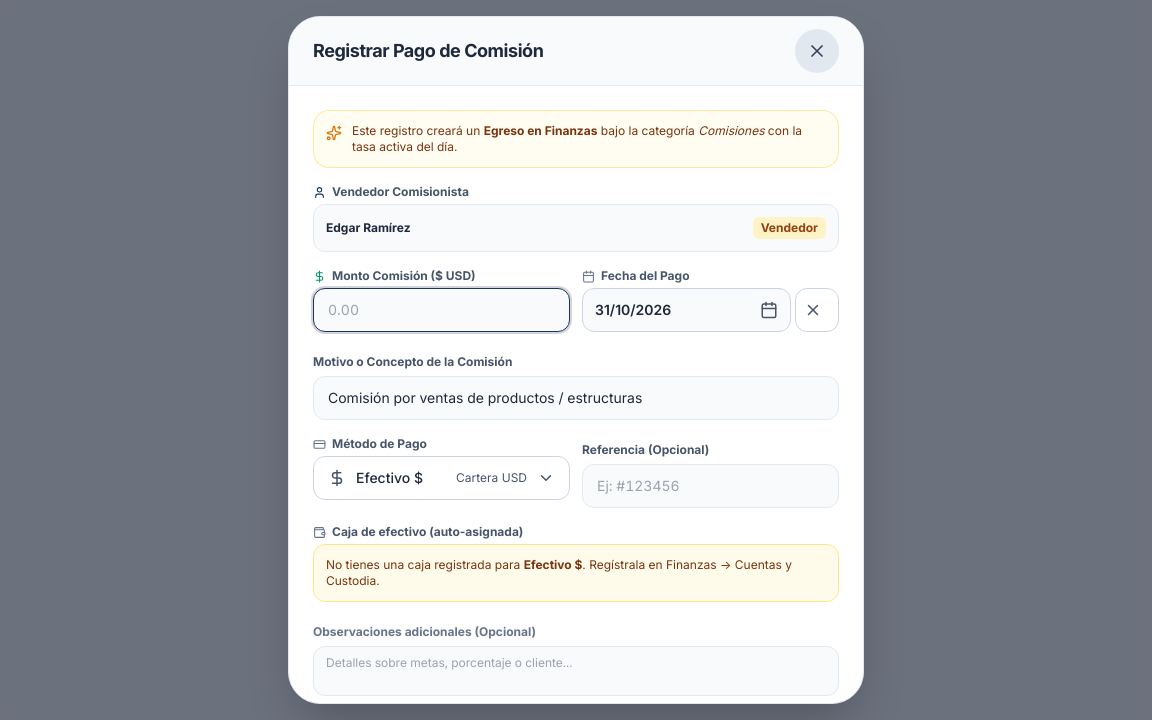
Test case: ComisionPagoModal — invariante anti-huérfanos › sin caja registrada para el método, muestra el aviso y NO envía nada
The width and height of the screenshot is (1152, 720).
Type "25" into the number field with placeholder "0.00" at (442, 310), box x1=313 y1=288 x2=570 y2=332
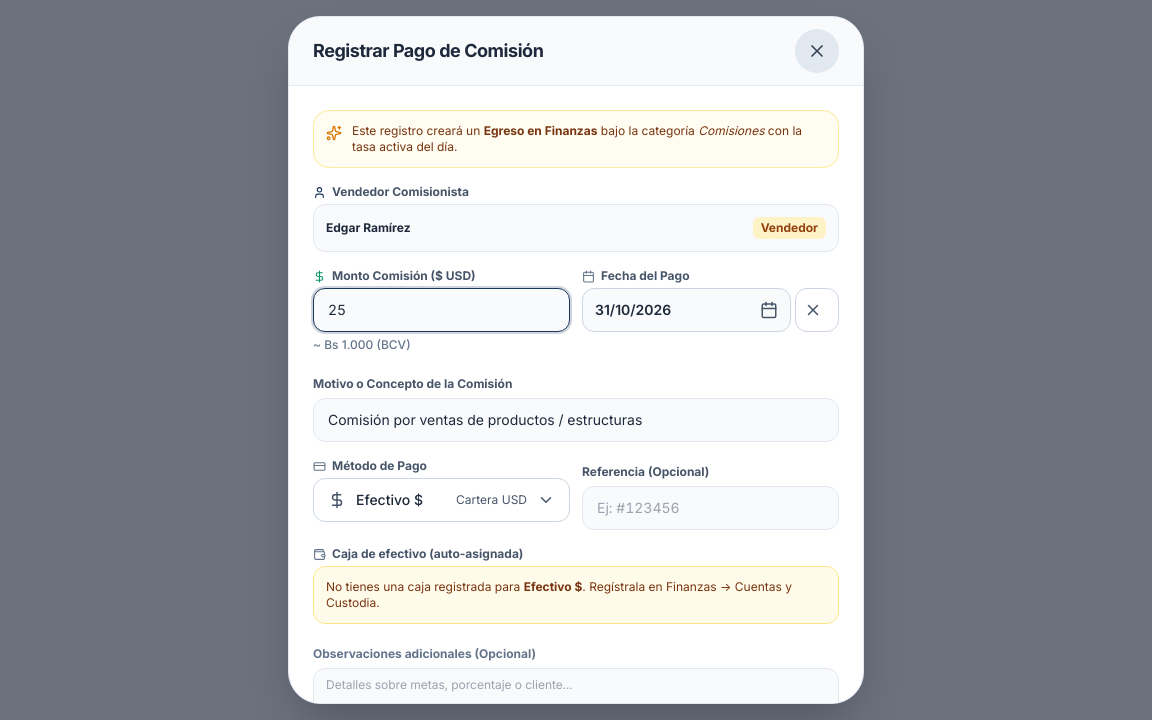
Type "Comisión de prueba" into the field with placeholder "Ej: Comisión por venta de estructuras / montaje" at (576, 420), box x1=313 y1=398 x2=839 y2=442
(page scrolled)
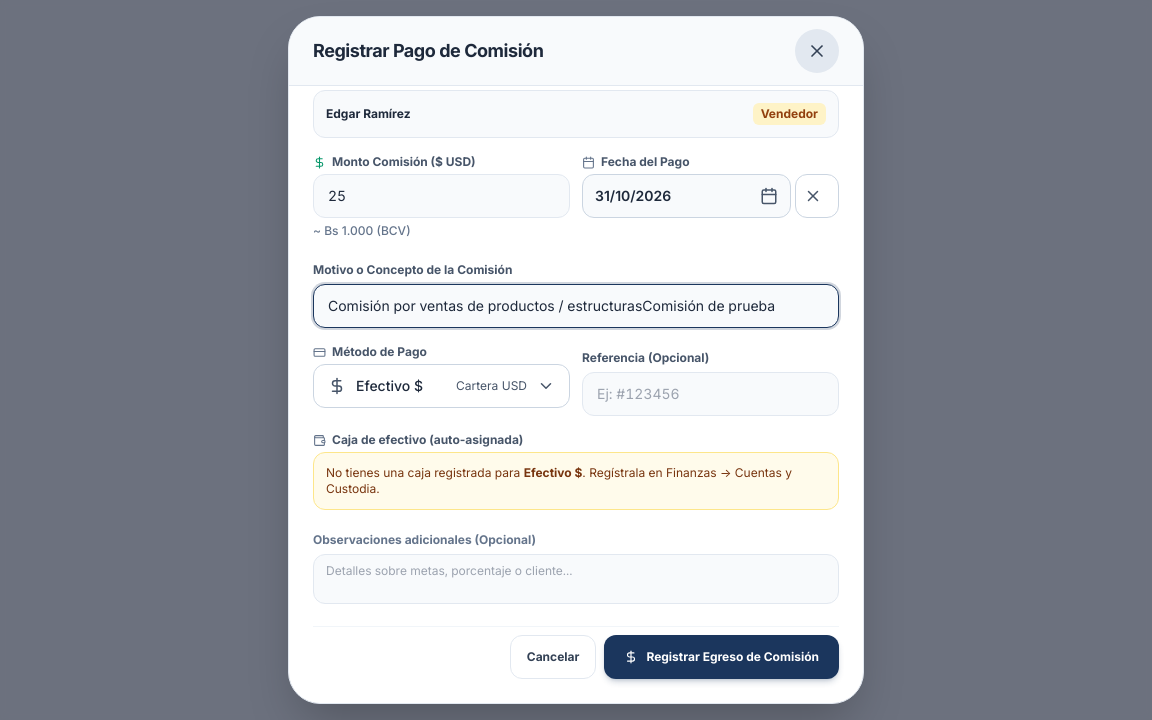
Expected: the text "No tienes una caja registrada" is shown, x1=326 y1=465 x2=524 y2=480
Click the button "Registrar Egreso de Comisión" at (722, 657), box x1=604 y1=635 x2=839 y2=679
(page scrolled)
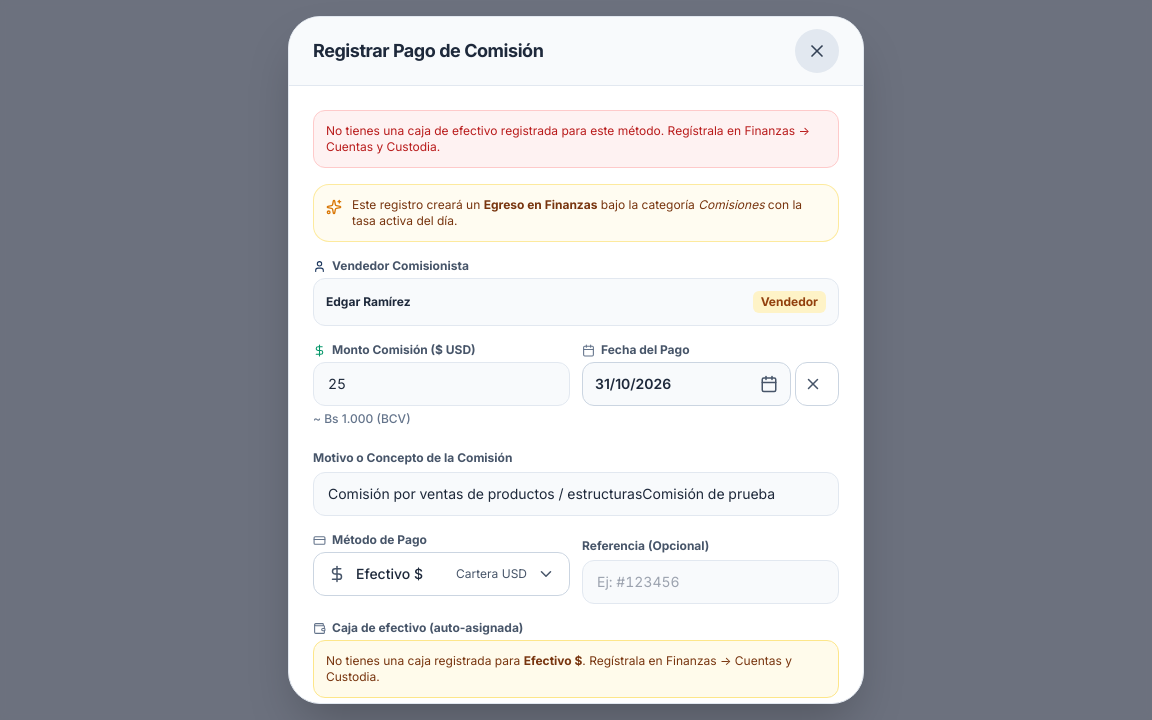
Expected: the text "No tienes una caja de efectivo registrada" is shown, x1=326 y1=123 x2=810 y2=154
